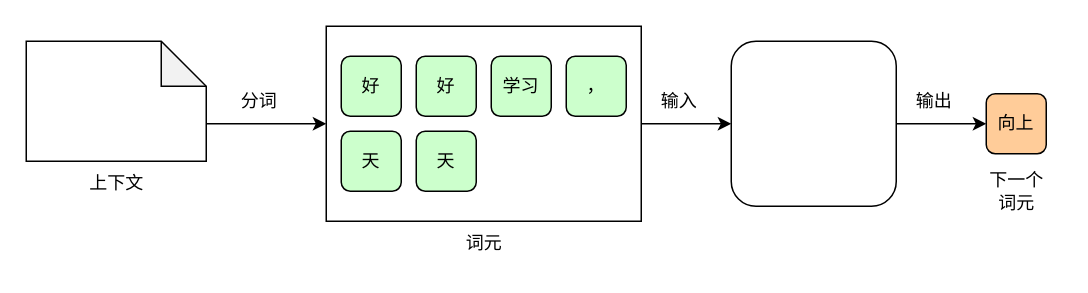
This 1088x293 diagram has some shape labels left out. The centre of each missing label's shape, as x and y in pixels:
人工智能 （LLM）: the point at 813,123
好好学习， 天天向上！: the point at 115,100
